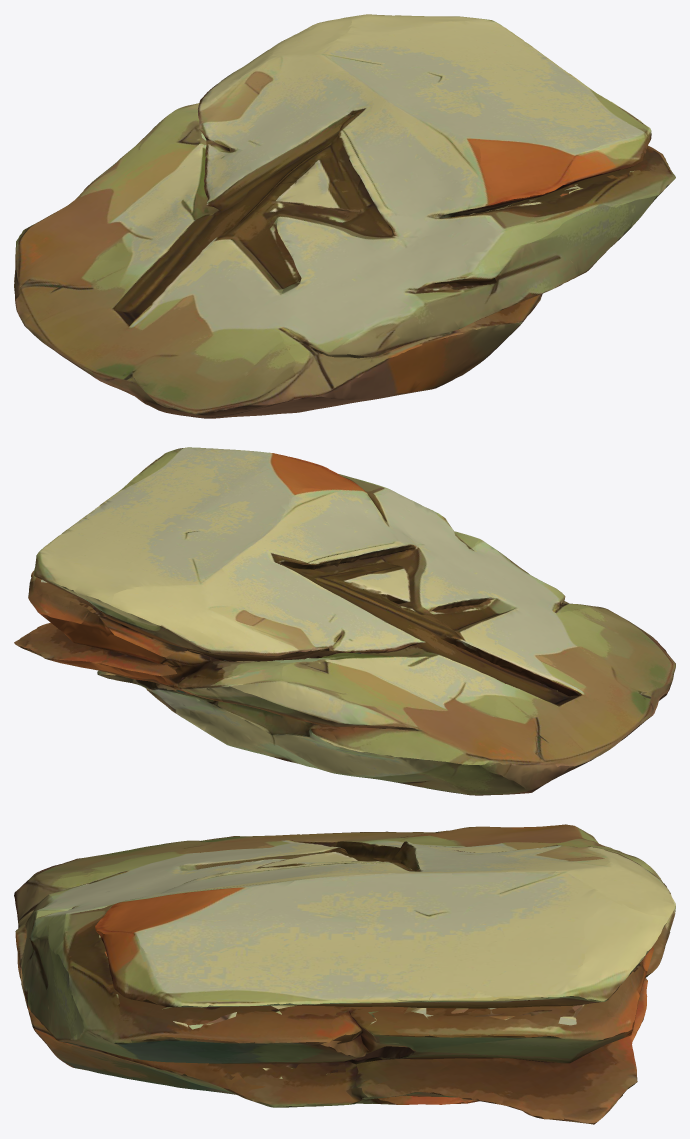
File: item_ruin_shard.glb
The picture shows the model from 3 angles, top to bottom: view 1: azimuth 30°, elevation 25°; view 2: azimuth 150°, elevation 25°; view 3: azimuth 270°, elevation 25°; orthographic projection. The views are drawn at different scales.
Visible parts, largest first — view 1: item_ruin_shard; view 2: item_ruin_shard; view 3: item_ruin_shard.
Boxes of the visible parts, x1,y1,x2,y2 form: item_ruin_shard: (14, 14, 675, 418); item_ruin_shard: (14, 447, 675, 795); item_ruin_shard: (14, 824, 675, 1124).
Bounding box in the file's own units: 0.2 × 0.0615 × 0.1602.
Materials: 1 (1 with a texture image).
